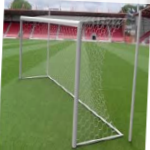goals: (18, 13, 125, 147)
